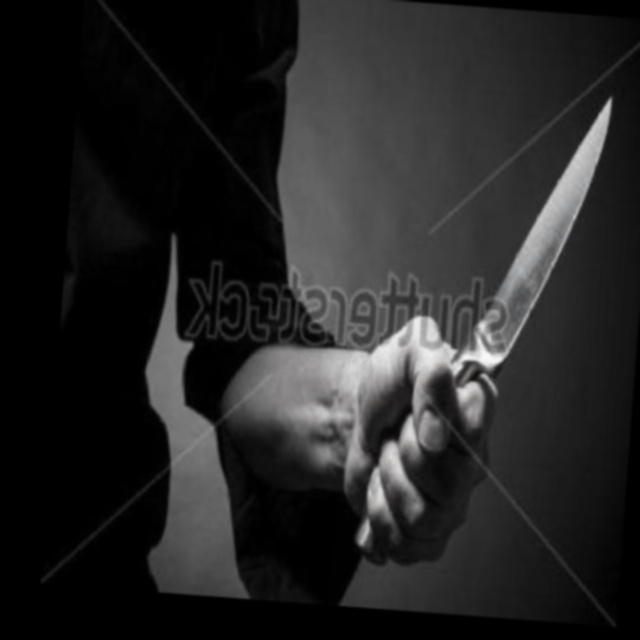Sharp-Object: (353, 85, 613, 579)
